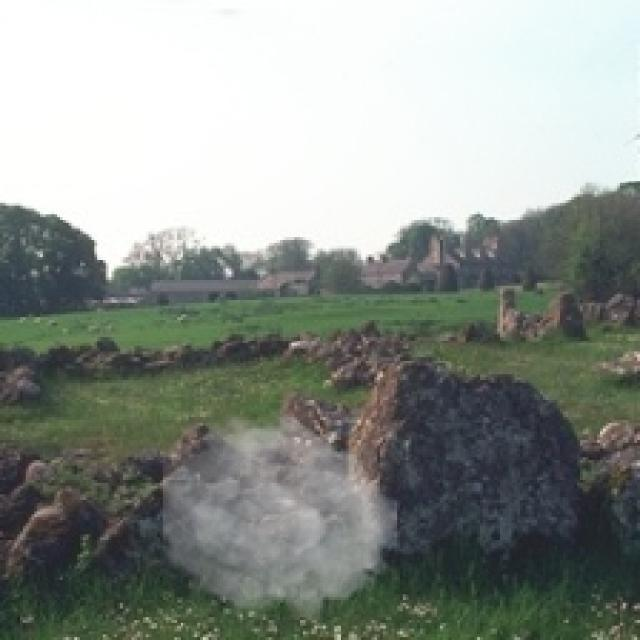Smoke: (162, 406, 398, 626)
